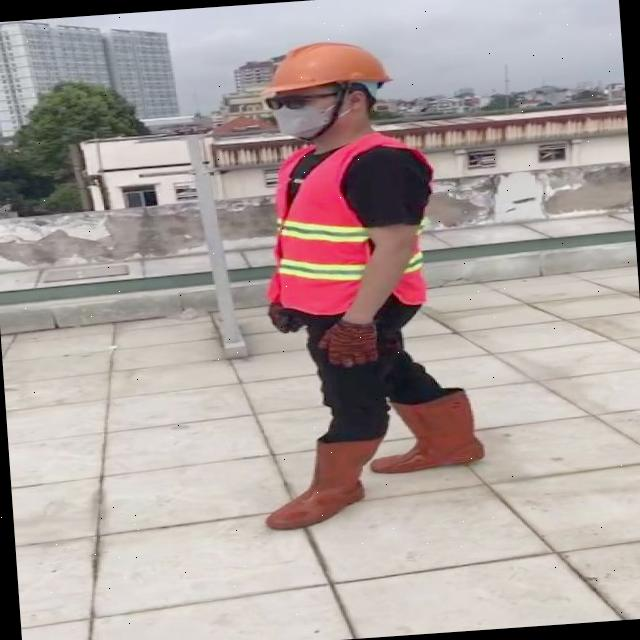boots: (261, 437, 386, 530), (378, 389, 486, 473)
